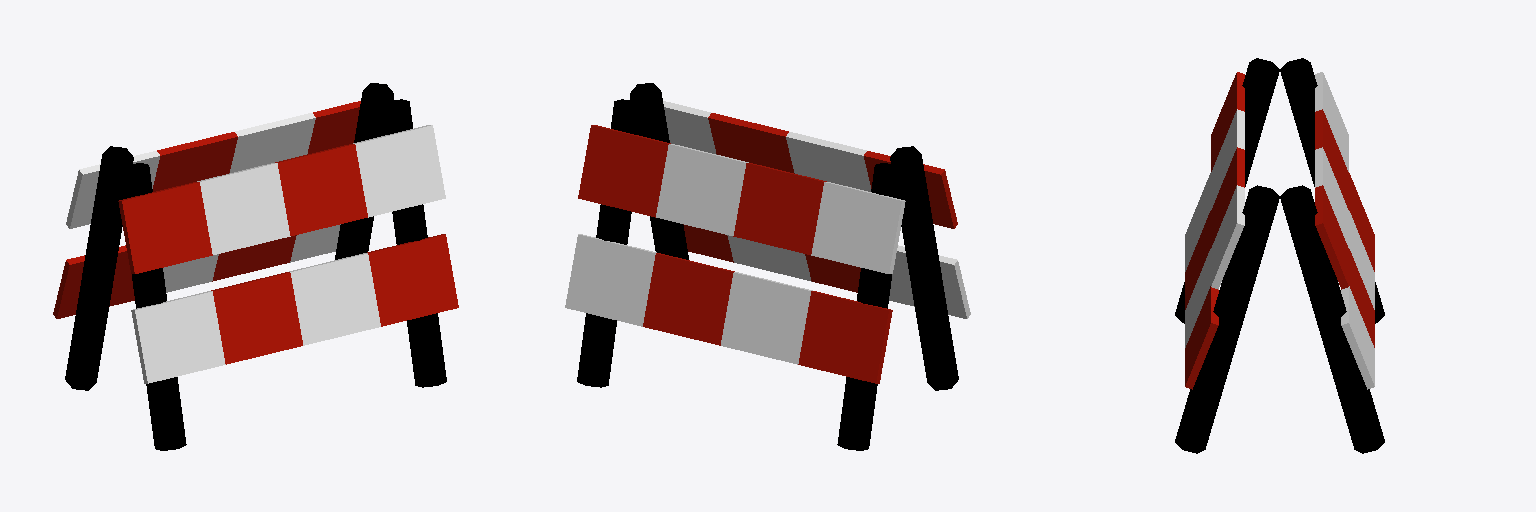
The model's file is TrafficBarrier_01.obj.
The picture shows the model from 3 angles: view 1: azimuth 30°, elevation 25°; view 2: azimuth 150°, elevation 25°; view 3: azimuth 270°, elevation 25°; orthographic projection.
Parts seen in each view (by area): view 1: TrafficBarrier_01_Cube.021; view 2: TrafficBarrier_01_Cube.021; view 3: TrafficBarrier_01_Cube.021.
Part boxes in pixels (bbox=[...]): TrafficBarrier_01_Cube.021: bbox=[53, 83, 458, 450]; TrafficBarrier_01_Cube.021: bbox=[565, 83, 970, 450]; TrafficBarrier_01_Cube.021: bbox=[1175, 58, 1384, 453].
Size of the model in its own units: 8.56 by 6.85 by 5.03.